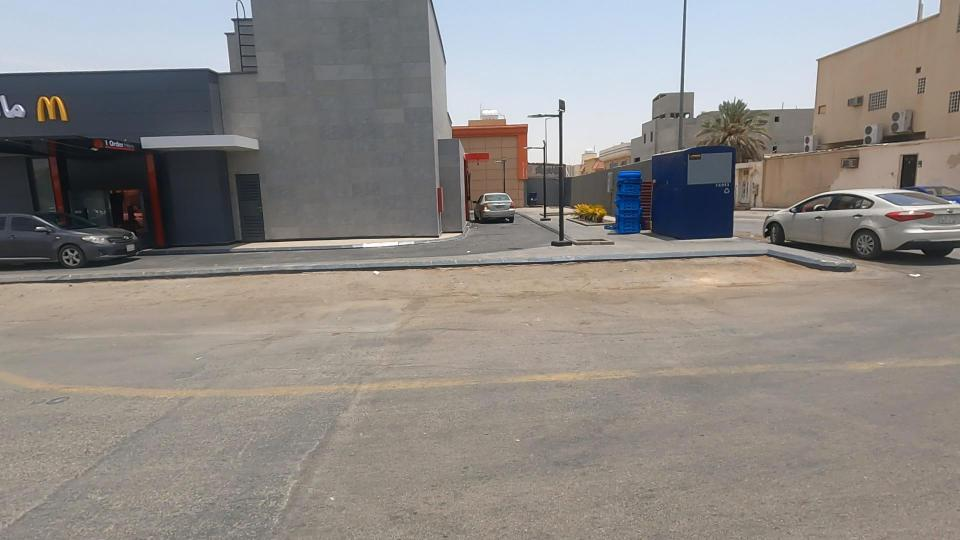GARBAGE: (884, 241, 955, 314)
